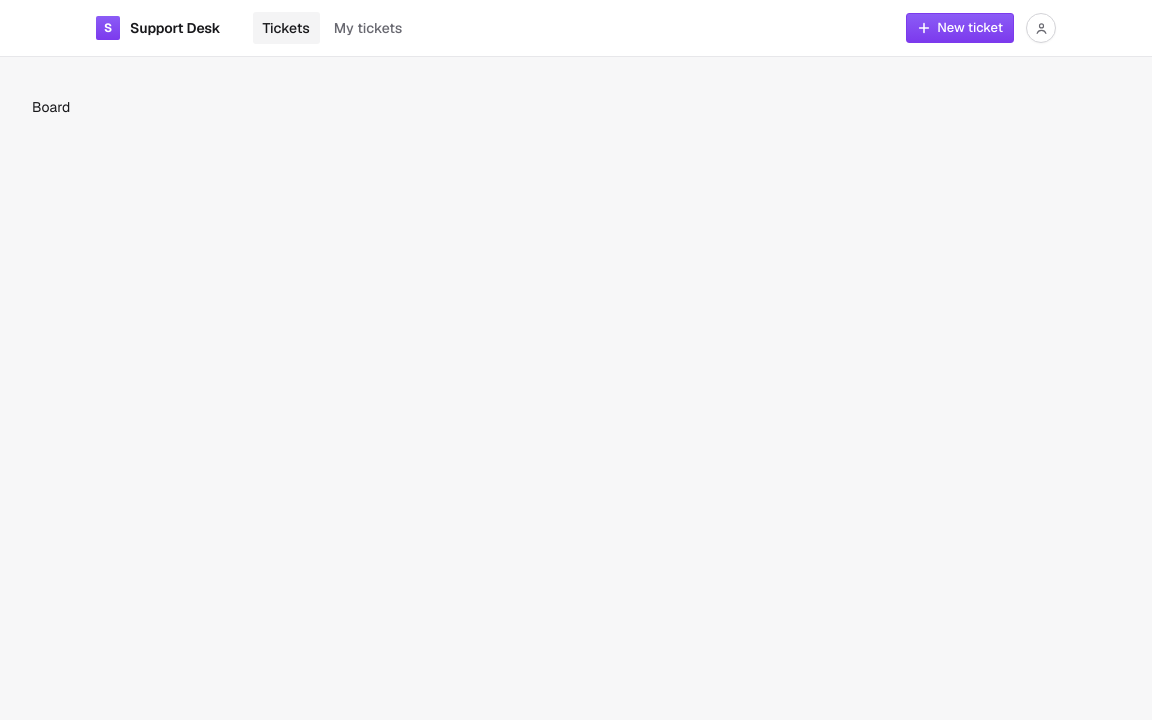
Test: AppShell › shows navigation and asks before signing out
Expected: the text "Board" is shown, [32,98,70,116]
Click the button named "Account menu" at (1041, 28), box [1026,13,1056,43]
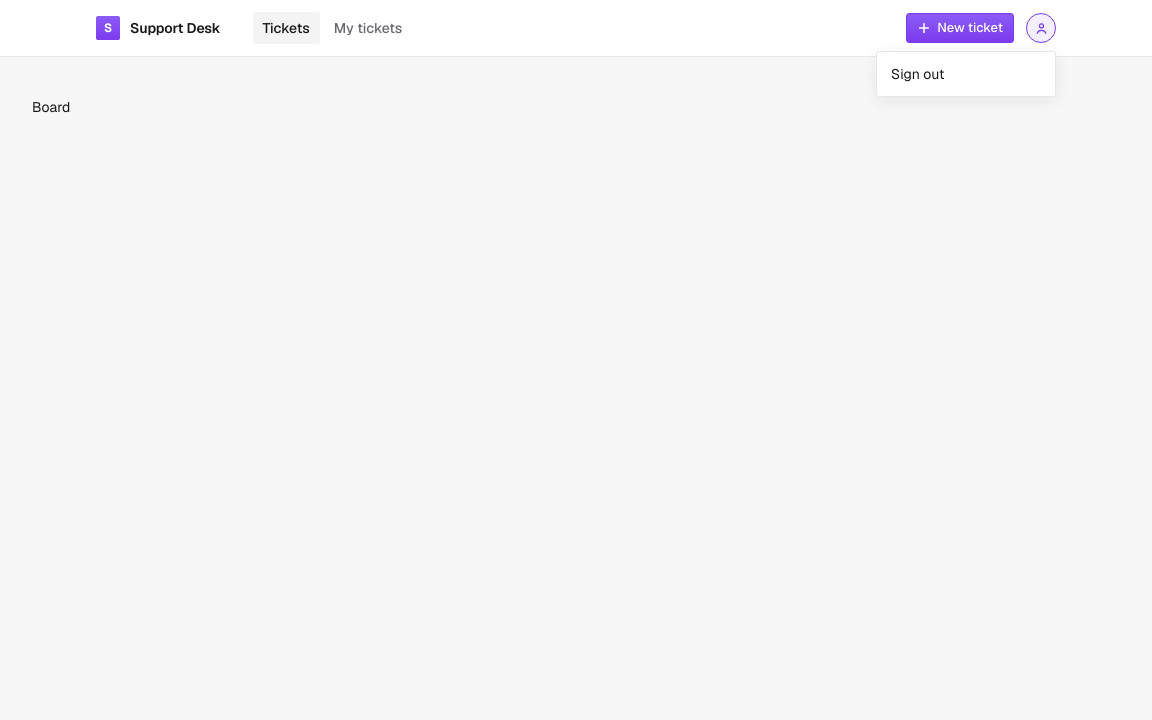
Click the menu item "Sign out" at (966, 74), box [881,56,1051,92]
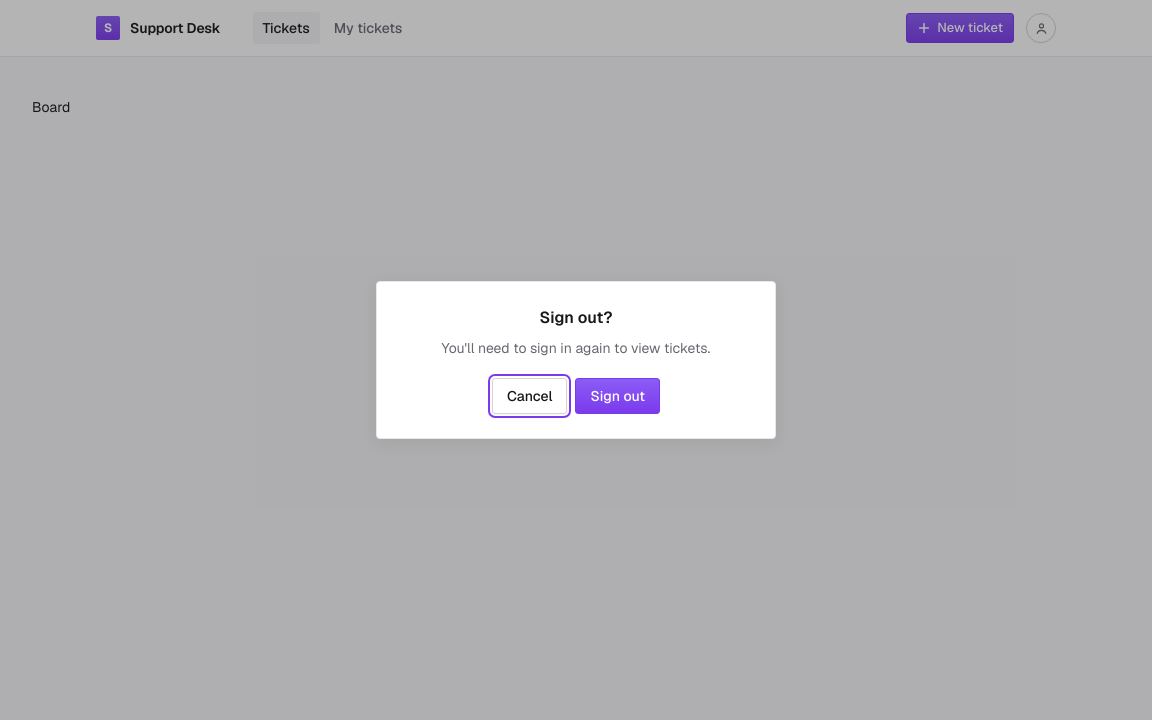
Result: the dialog "Sign out?" is shown at [376,281,776,439]
Result: the text "You'll need to sign in again to view tickets." is shown at [442,339,710,357]
